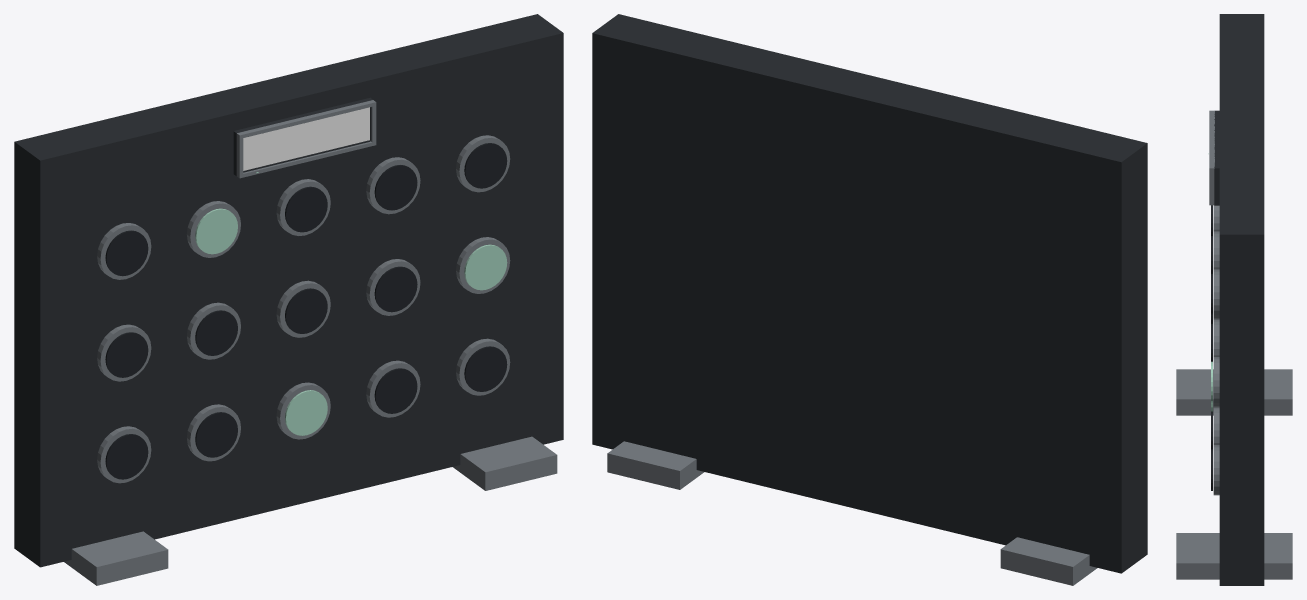
File: PC_BX_StimulusWall.fbx
The picture shows the model from 3 angles, left to right: view 1: azimuth 30°, elevation 25°; view 2: azimuth 150°, elevation 25°; view 3: azimuth 270°, elevation 25°; orthographic projection. The views are drawn at different scales.
Parts seen in each view (by area): view 1: PC_BX_StimulusWall; view 2: PC_BX_StimulusWall; view 3: PC_BX_StimulusWall.
Boxes of the visible parts, x1,y1,x2,y2 form: PC_BX_StimulusWall: (14,14,563,585); PC_BX_StimulusWall: (592,14,1147,585); PC_BX_StimulusWall: (1176,14,1292,585).
Bounding box in the file's own units: 350 × 265 × 78.
